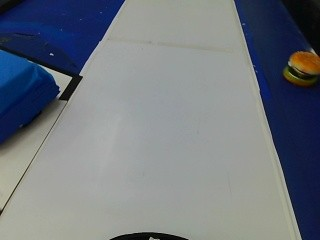burger: (284, 45, 318, 90)
